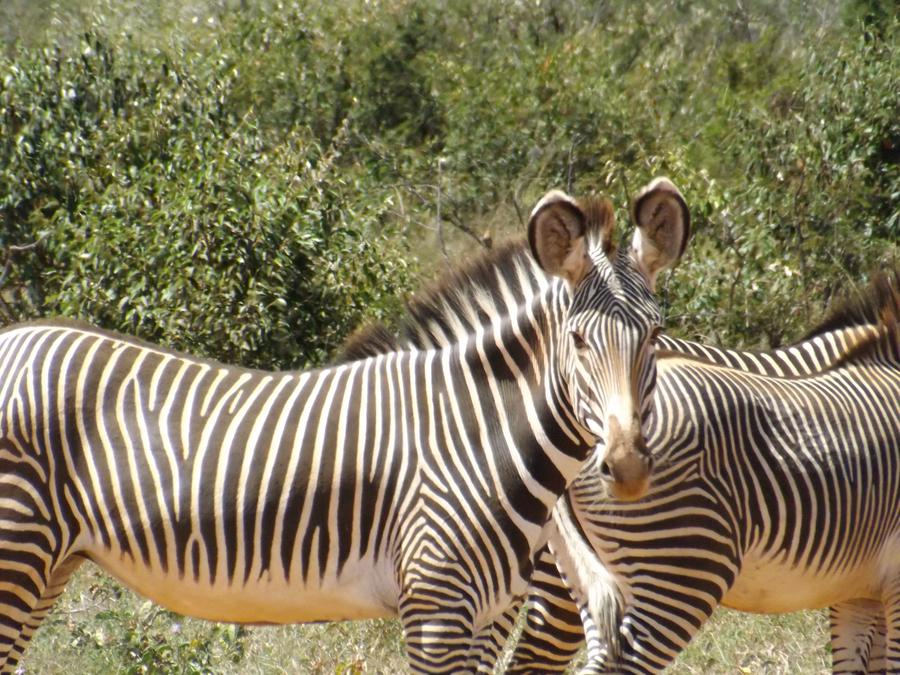zebra_grevys: (9, 291, 495, 633), (663, 338, 895, 589)
